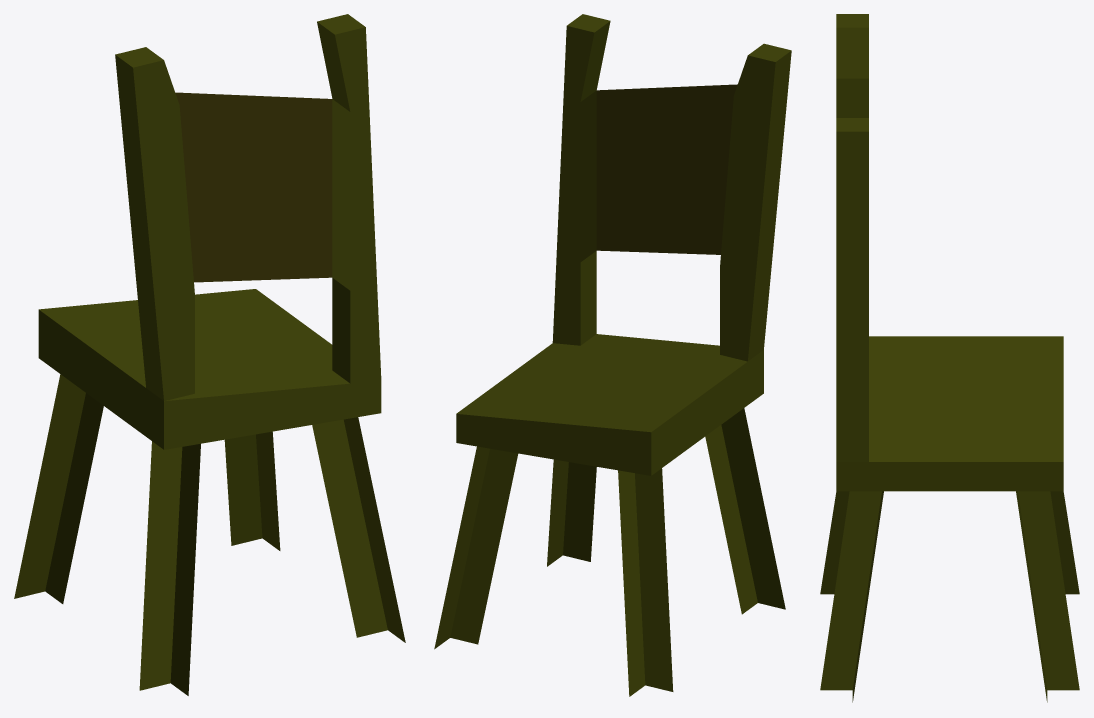
The model's file is obj_chair_11_0.obj.
The picture shows the model from 3 angles, left to right: view 1: azimuth 30°, elevation 25°; view 2: azimuth 150°, elevation 25°; view 3: azimuth 270°, elevation 25°; orthographic projection. The views are drawn at different scales.
Bounding box in the file's own units: 0.5312 × 1.22 × 0.5.
